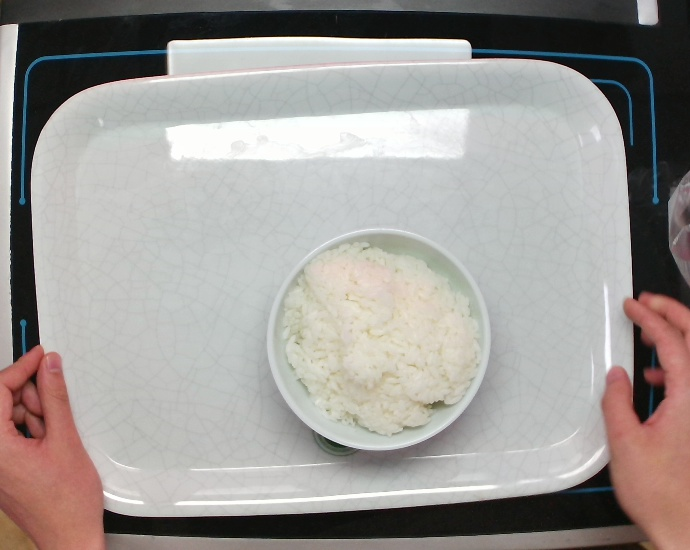JYsf-Fan_Wan: (265, 225, 493, 453)
